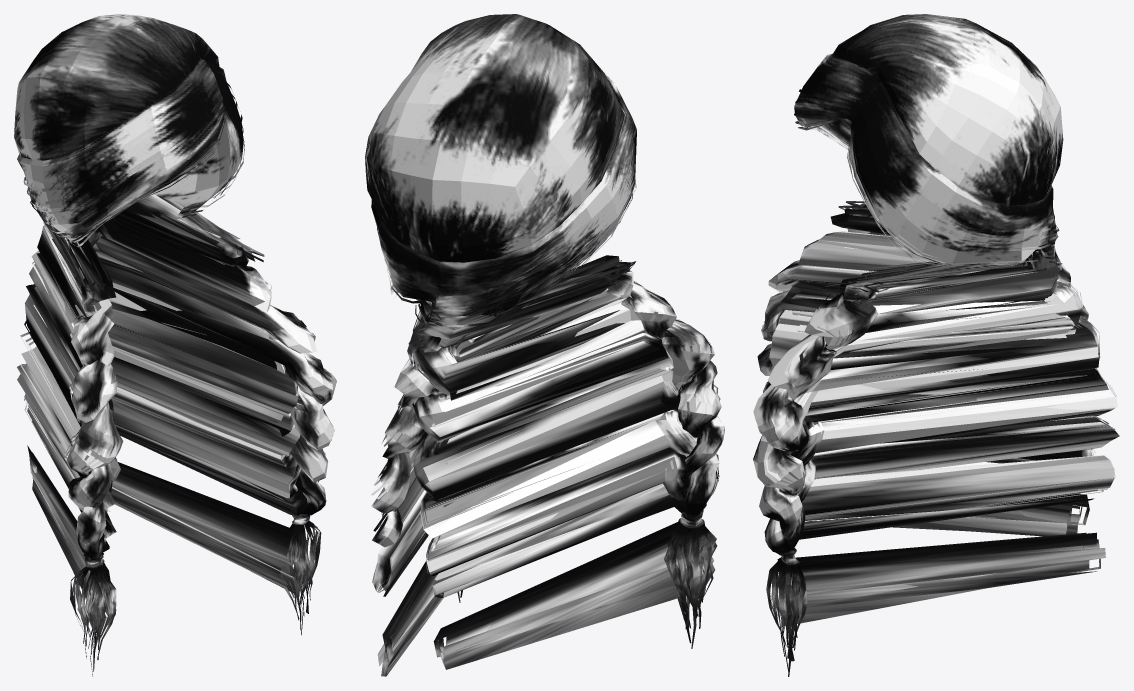
File: zopf_zwergin.glb
The picture shows the model from 3 angles, left to right: view 1: azimuth 30°, elevation 25°; view 2: azimuth 150°, elevation 25°; view 3: azimuth 270°, elevation 25°; orthographic projection. The views are drawn at different scales.
Visible parts, largest first — view 1: Zopf_Zwergin; view 2: Zopf_Zwergin; view 3: Zopf_Zwergin.
Part boxes in pixels (bbox=[...]): Zopf_Zwergin: bbox=[14, 14, 336, 676]; Zopf_Zwergin: bbox=[365, 14, 724, 676]; Zopf_Zwergin: bbox=[753, 14, 1119, 676].
Size of the model in its own units: 0.2709 by 0.5812 by 0.3198.
Materials: 1 (1 with a texture image).
